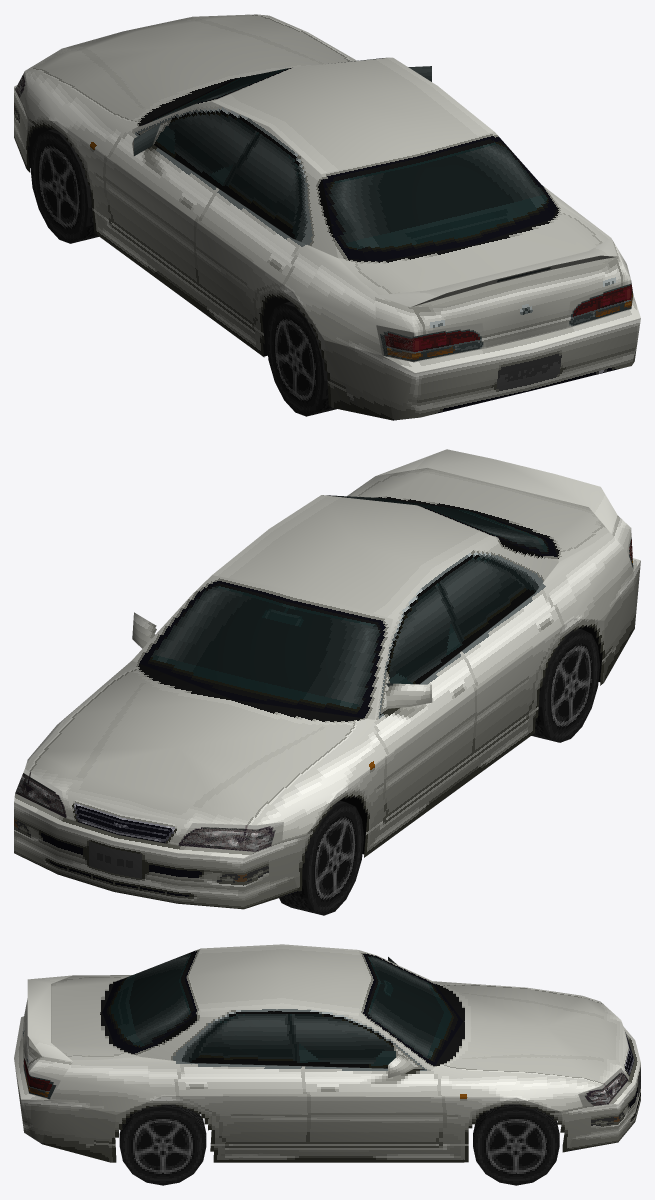
The model's file is GT_SIMULATION__TEXVN.glb.
The picture shows the model from 3 angles, top to bottom: view 1: azimuth 30°, elevation 25°; view 2: azimuth 150°, elevation 25°; view 3: azimuth 270°, elevation 25°; orthographic projection. The views are drawn at different scales.
Parts seen in each view (by area): view 1: Native body LOD0, Native wheel 0, Native wheel 2; view 2: Native body LOD0, Native wheel 0, Native wheel 2; view 3: Native body LOD0, Native wheel 1, Native wheel 3.
Boxes of the visible parts, x1,y1,x2,y2 form: Native body LOD0: (14,14,640,420); Native wheel 0: (30,129,98,243); Native wheel 2: (266,301,336,416); Native body LOD0: (14,449,640,909); Native wheel 0: (279,800,363,915); Native wheel 2: (531,628,600,742); Native body LOD0: (14,944,640,1162); Native wheel 1: (473,1104,559,1185); Native wheel 3: (119,1104,206,1185).
Size of the model in its own units: 1.85 by 1.31 by 4.5.
Materials: 12 (11 with a texture image).
